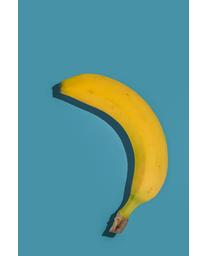banana: (58, 70, 170, 235)
